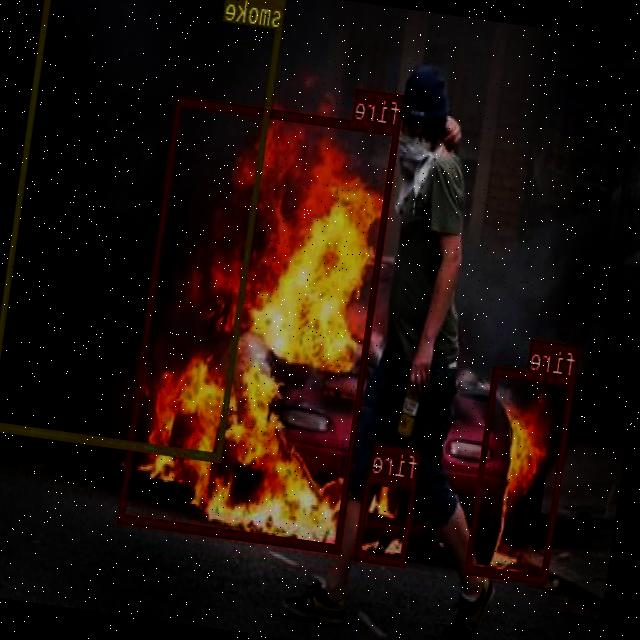fire: (118, 96, 402, 554), (466, 367, 576, 582), (356, 473, 418, 566)
smoke: (0, 0, 287, 460)
